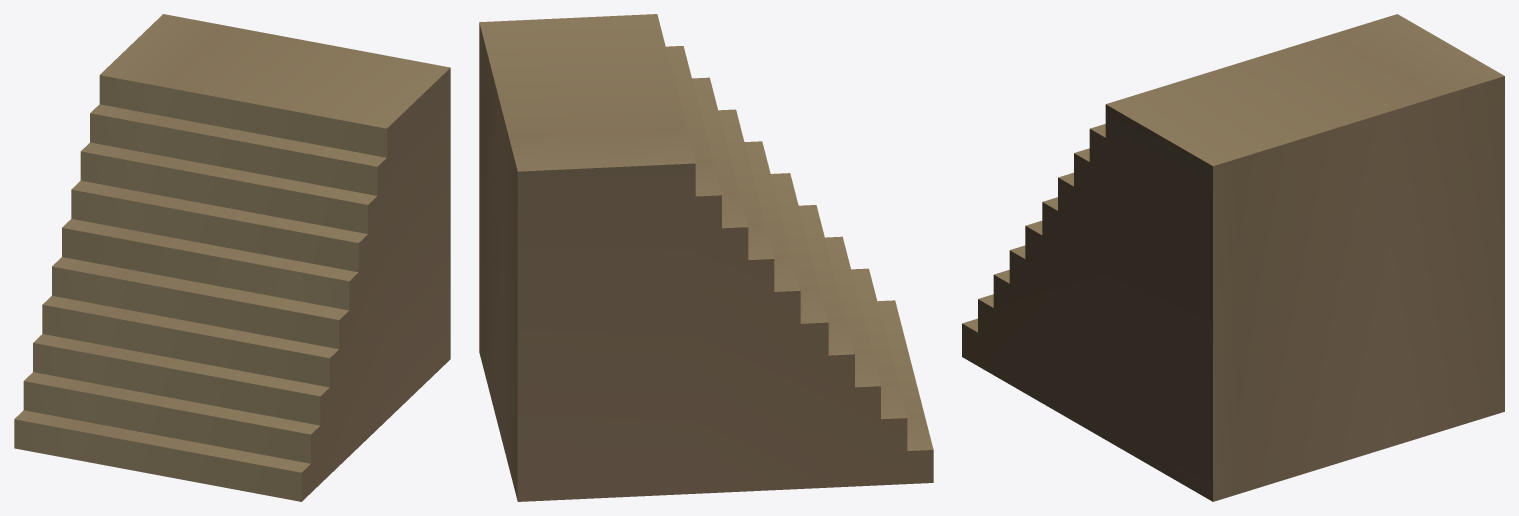
The picture shows the model from 3 angles, left to right: view 1: azimuth 30°, elevation 25°; view 2: azimuth 150°, elevation 25°; view 3: azimuth 270°, elevation 25°; orthographic projection. The views are drawn at different scales.
Visible parts, largest first — view 1: stairs_09; view 2: stairs_09; view 3: stairs_09.
Boxes of the visible parts, x1,y1,x2,y2 form: stairs_09: [14, 14, 450, 501]; stairs_09: [479, 14, 933, 501]; stairs_09: [962, 14, 1504, 501].
Bounding box in the file's own units: 2.28 × 1.52 × 2.22.
1 material, 1 textured.
